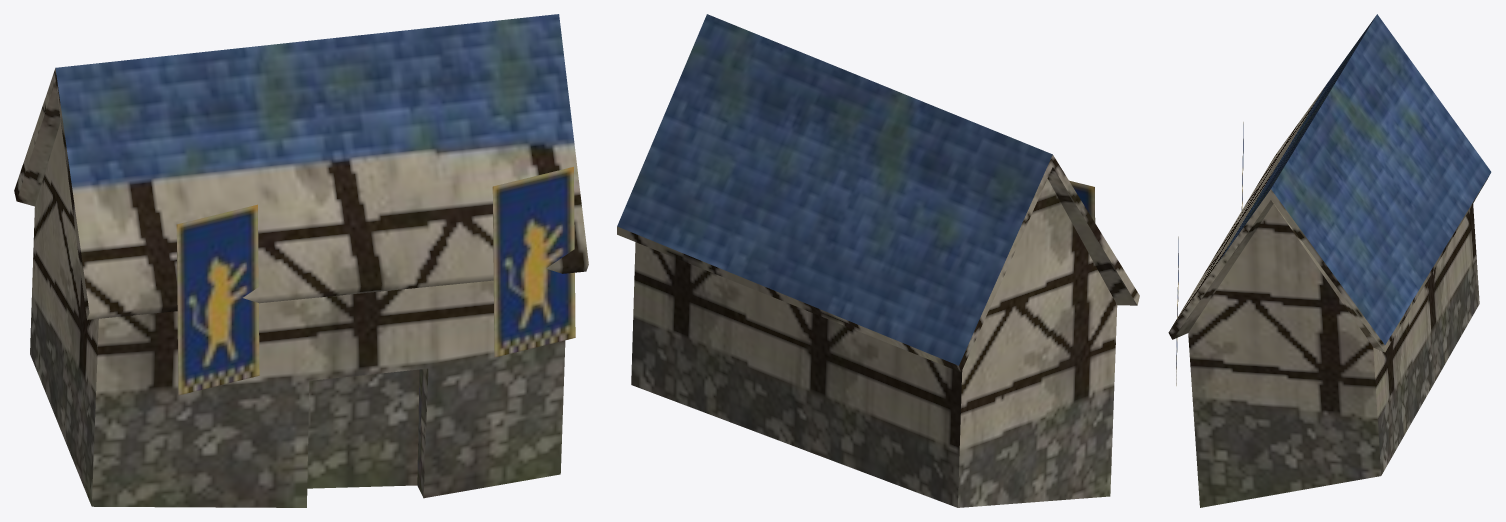
The model's file is house_06_card_lod2.glb.
3 views of the same model, side by side, from view 1: azimuth 30°, elevation 25°; view 2: azimuth 150°, elevation 25°; view 3: azimuth 270°, elevation 25° (orthographic). The views are drawn at different scales.
Visible parts, largest first — view 1: house_06_game_card; view 2: house_06_game_card; view 3: house_06_game_card.
Part boxes in pixels (x1,y1,x2,y2): house_06_game_card: (14, 14, 588, 507); house_06_game_card: (617, 14, 1139, 507); house_06_game_card: (1168, 14, 1491, 507).
Size of the model in its own units: 8.5 by 6.96 by 6.01.
Materials: 1 (1 with a texture image).
